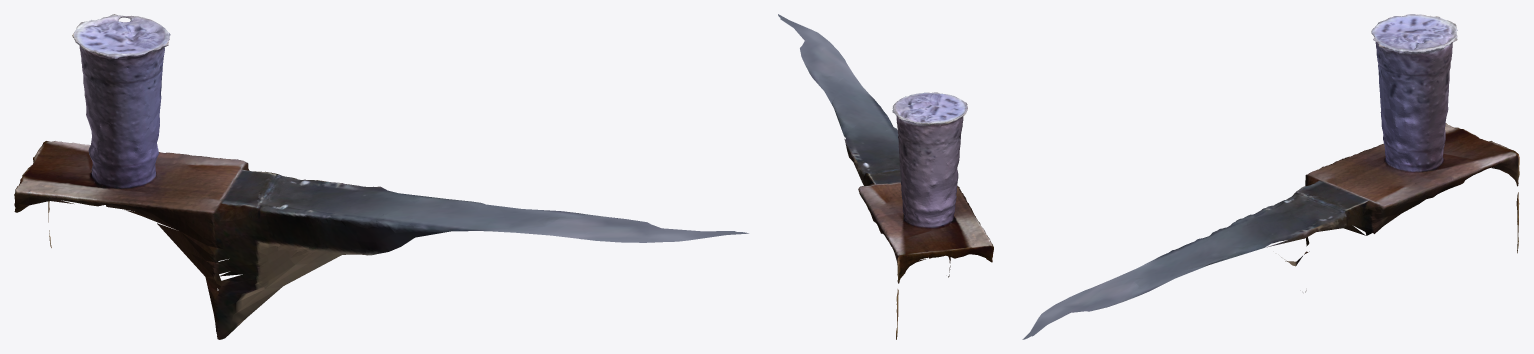
The model's file is taro-thagen.glb.
The picture shows the model from 3 angles, left to right: view 1: azimuth 30°, elevation 25°; view 2: azimuth 150°, elevation 25°; view 3: azimuth 270°, elevation 25°; orthographic projection. The views are drawn at different scales.
Parts seen in each view (by area): view 1: mesh; view 2: mesh; view 3: mesh.
Boxes of the visible parts, x1,y1,x2,y2 form: mesh: [14, 14, 748, 339]; mesh: [778, 14, 993, 339]; mesh: [1022, 14, 1519, 339].
Size of the model in its own units: 0.565 by 0.289 by 0.5334.
Materials: 1 (1 with a texture image).
